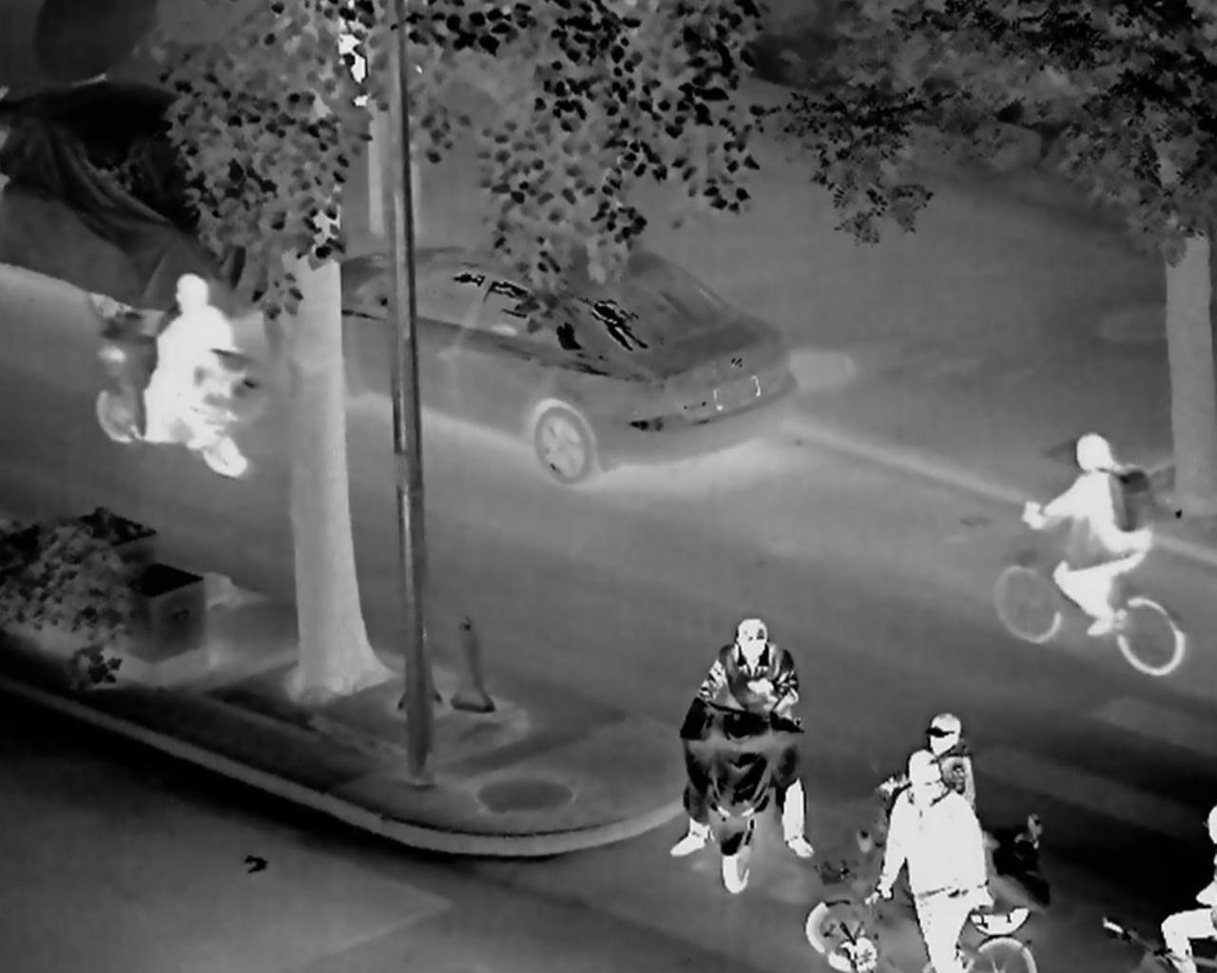person: (663, 605, 822, 869), (1018, 424, 1152, 624), (880, 742, 995, 973), (132, 267, 243, 451), (876, 698, 985, 845), (1156, 799, 1215, 973)
